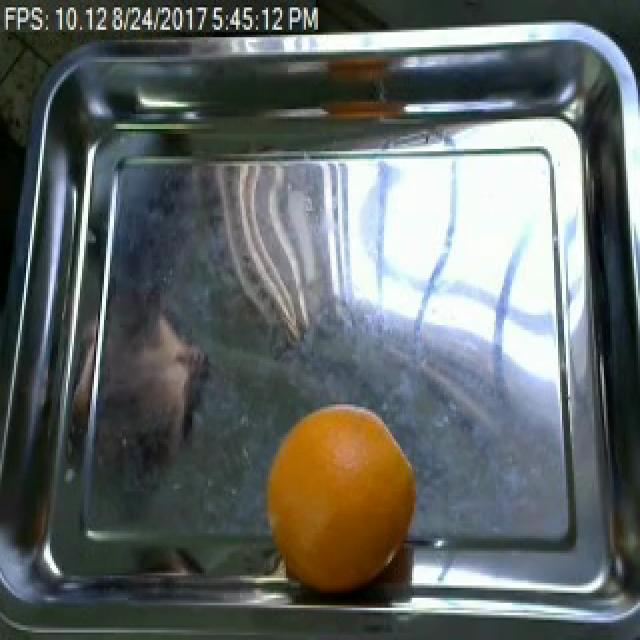Fruit: (264, 400, 424, 596)
